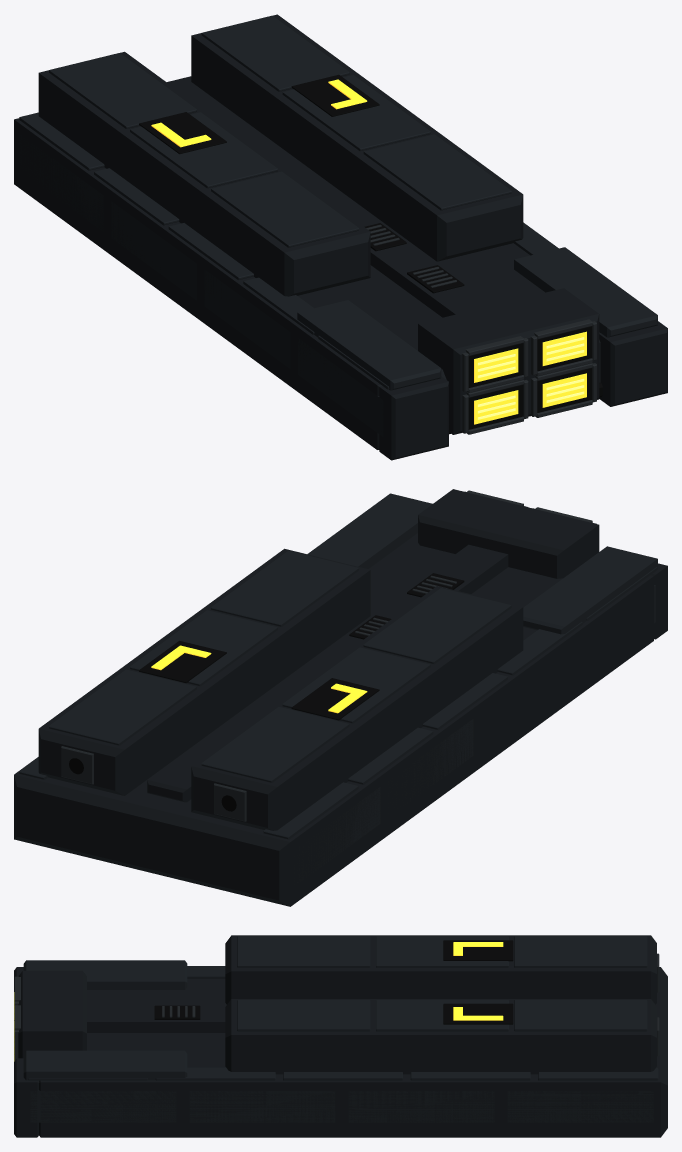
File: split-crown.glb
The picture shows the model from 3 angles, top to bottom: view 1: azimuth 30°, elevation 25°; view 2: azimuth 150°, elevation 25°; view 3: azimuth 270°, elevation 25°; orthographic projection. The views are drawn at different scales.
Parts seen in each view (by area): view 1: Charcoal_coating, Armor_panels, Recess_interior, Recess_bezels, Marigold_emission, Engine_core; view 2: Charcoal_coating, Armor_panels, Recess_interior, Recess_bezels, Marigold_emission; view 3: Charcoal_coating, Armor_panels, Recess_interior, Recess_bezels, Marigold_emission.
Boxes of the visible parts, x1=… form: Charcoal_coating: x1=14, y1=14, x2=667, y2=460; Armor_panels: x1=18, y1=15, x2=657, y2=436; Recess_interior: x1=139, y1=74, x2=602, y2=434; Recess_bezels: x1=366, y1=224, x2=596, y2=434; Marigold_emission: x1=151, y1=79, x2=586, y2=424; Engine_core: x1=477, y1=337, x2=584, y2=419; Charcoal_coating: x1=14, y1=489, x2=667, y2=906; Armor_panels: x1=19, y1=493, x2=657, y2=882; Recess_interior: x1=69, y1=573, x2=464, y2=811; Recess_bezels: x1=61, y1=490, x2=596, y2=821; Marigold_emission: x1=151, y1=645, x2=367, y2=713; Charcoal_coating: x1=14, y1=935, x2=667, y2=1137; Armor_panels: x1=23, y1=936, x2=658, y2=1122; Recess_interior: x1=154, y1=940, x2=513, y2=1024; Recess_bezels: x1=14, y1=953, x2=659, y2=1060; Marigold_emission: x1=453, y1=942, x2=503, y2=1020.
Size of the model in its own units: 2.5 by 1 by 6.
